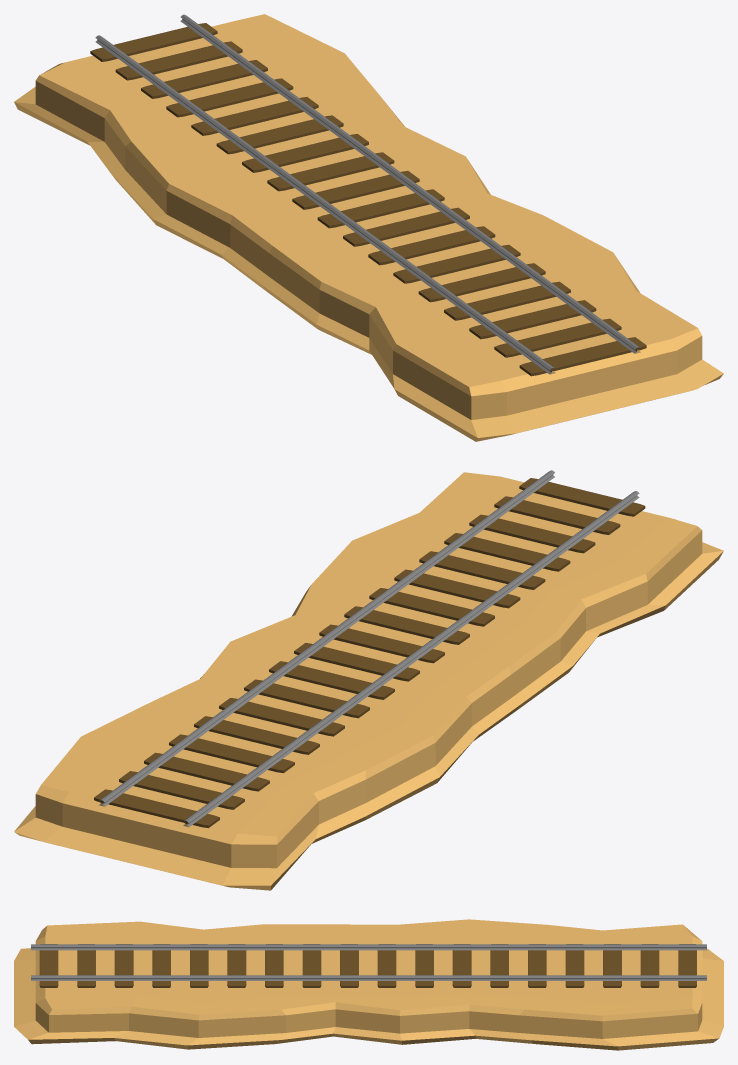
The model's file is RailRoadStraight.fbx.
3 renders of one model, top to bottom at view 1: azimuth 30°, elevation 25°; view 2: azimuth 150°, elevation 25°; view 3: azimuth 270°, elevation 25°, orthographic. The views are drawn at different scales.
Parts seen in each view (by area): view 1: Cube.003; view 2: Cube.003; view 3: Cube.003.
Part boxes in pixels (x1,y1,x2,y2): Cube.003: [14, 14, 723, 441]; Cube.003: [14, 470, 723, 890]; Cube.003: [14, 919, 723, 1050].
Size of the model in its own units: 2634 by 456 by 7560.
